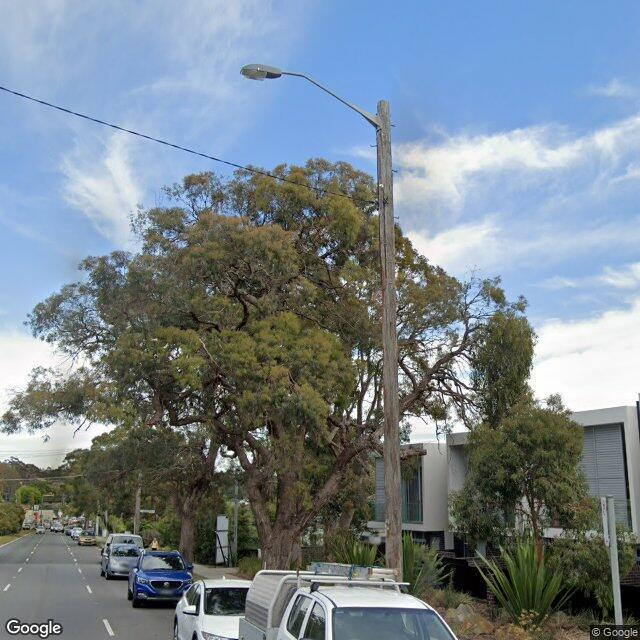streetlight: (240, 63, 382, 128)
timber-pole: (376, 98, 404, 566)
